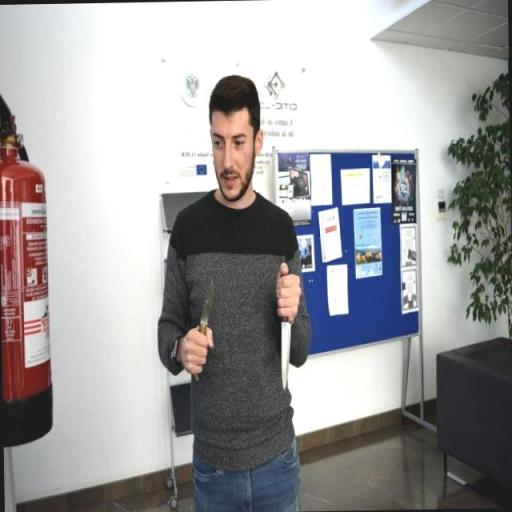knife: (188, 276, 218, 380), (276, 311, 294, 394)
